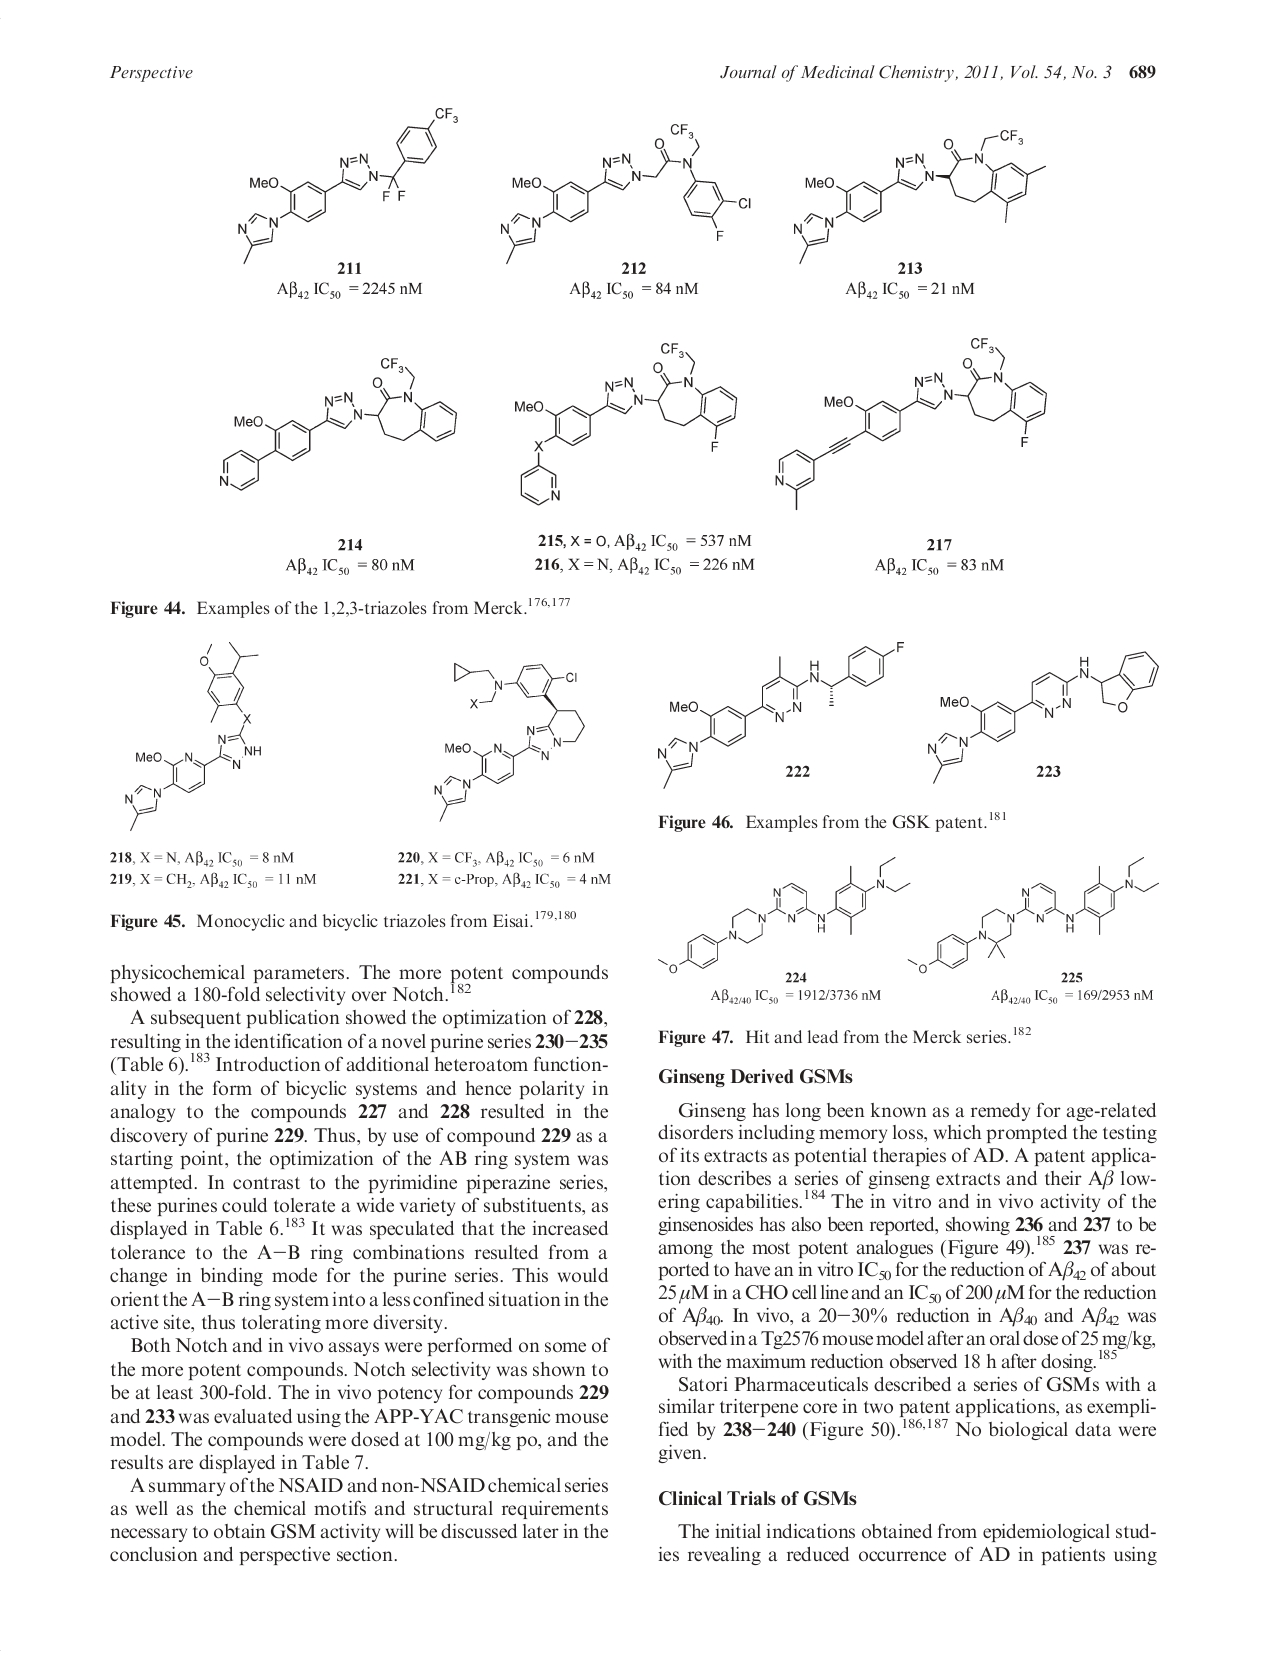exist_molecular: (763, 326, 1060, 509), (501, 332, 741, 508), (646, 638, 908, 791), (210, 350, 463, 504), (790, 122, 1051, 266), (233, 104, 463, 265), (497, 121, 751, 262), (924, 646, 1162, 795), (906, 854, 1161, 980), (657, 852, 910, 977), (117, 630, 270, 836), (424, 648, 590, 826)
